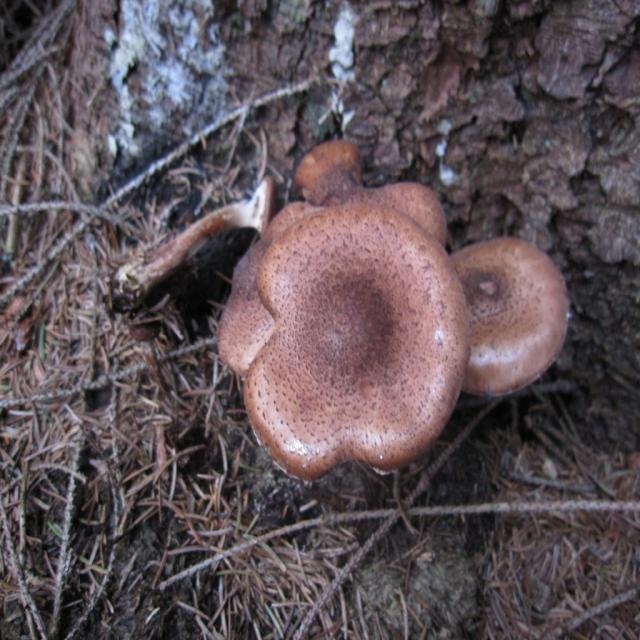Armillaria mellea: (126, 145, 568, 474)
